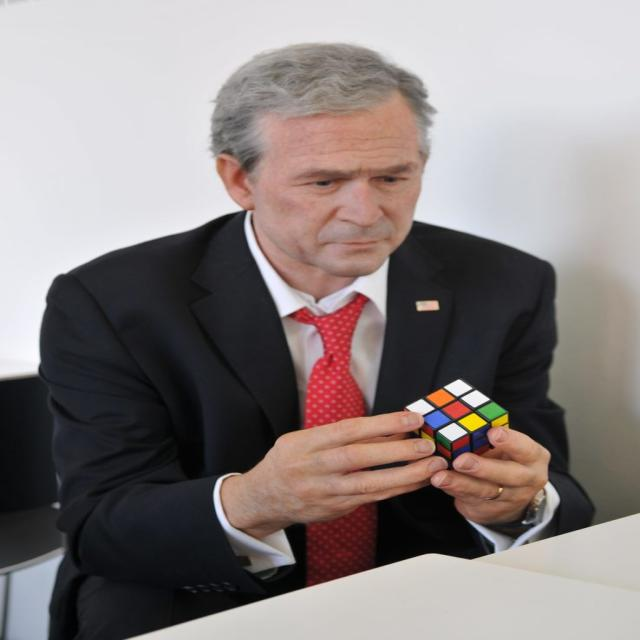Toy: (402, 380, 513, 466)
